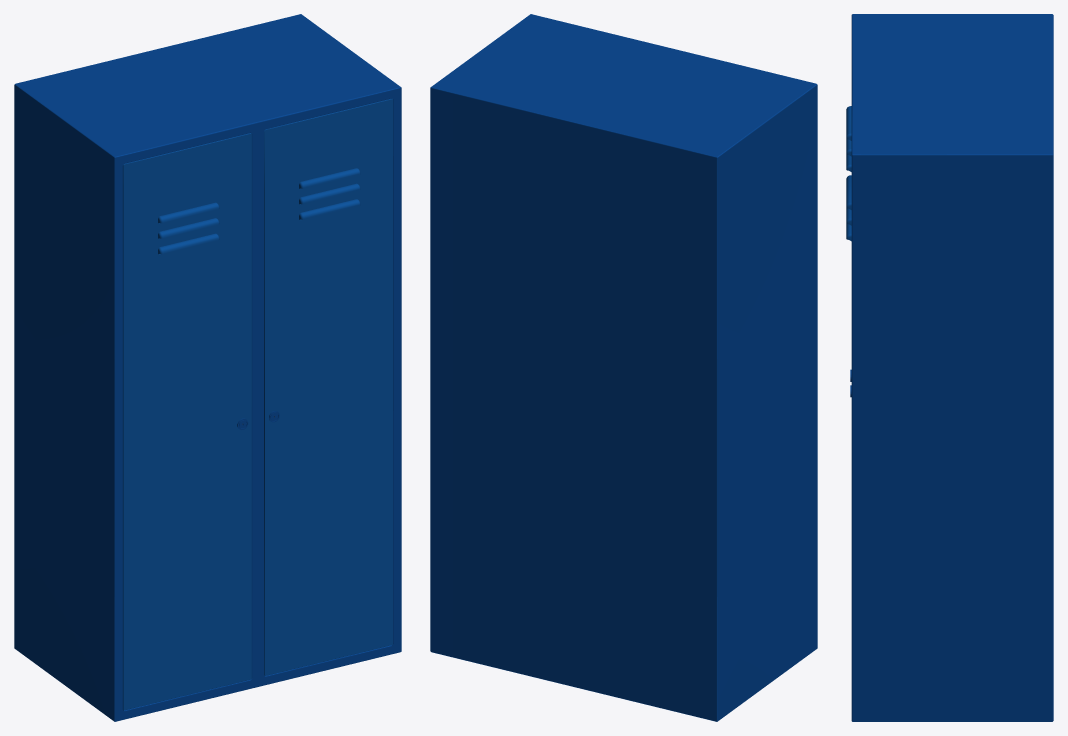
The model's file is SM_Locker_Open_V4_Blue.fbx.
3 views of the same model, side by side, from view 1: azimuth 30°, elevation 25°; view 2: azimuth 150°, elevation 25°; view 3: azimuth 270°, elevation 25° (orthographic).
Visible parts, largest first — view 1: SM_Locker_Open_V4_Blue, SM_Locker_Door_L_V4_Blue, SM_Locker_Door_R_V4_Blue; view 2: SM_Locker_Open_V4_Blue; view 3: SM_Locker_Open_V4_Blue, SM_Locker_Door_R_V4_Blue, SM_Locker_Door_L_V4_Blue.
Boxes of the visible parts, x1,y1,x2,y2 form: SM_Locker_Open_V4_Blue: [14, 14, 401, 721]; SM_Locker_Door_L_V4_Blue: [123, 133, 251, 710]; SM_Locker_Door_R_V4_Blue: [264, 98, 392, 675]; SM_Locker_Open_V4_Blue: [430, 14, 817, 721]; SM_Locker_Open_V4_Blue: [851, 14, 1053, 721]; SM_Locker_Door_R_V4_Blue: [846, 175, 851, 397]; SM_Locker_Door_L_V4_Blue: [846, 106, 851, 381].
Size of the model in its own units: 115 by 215 by 71.27.
